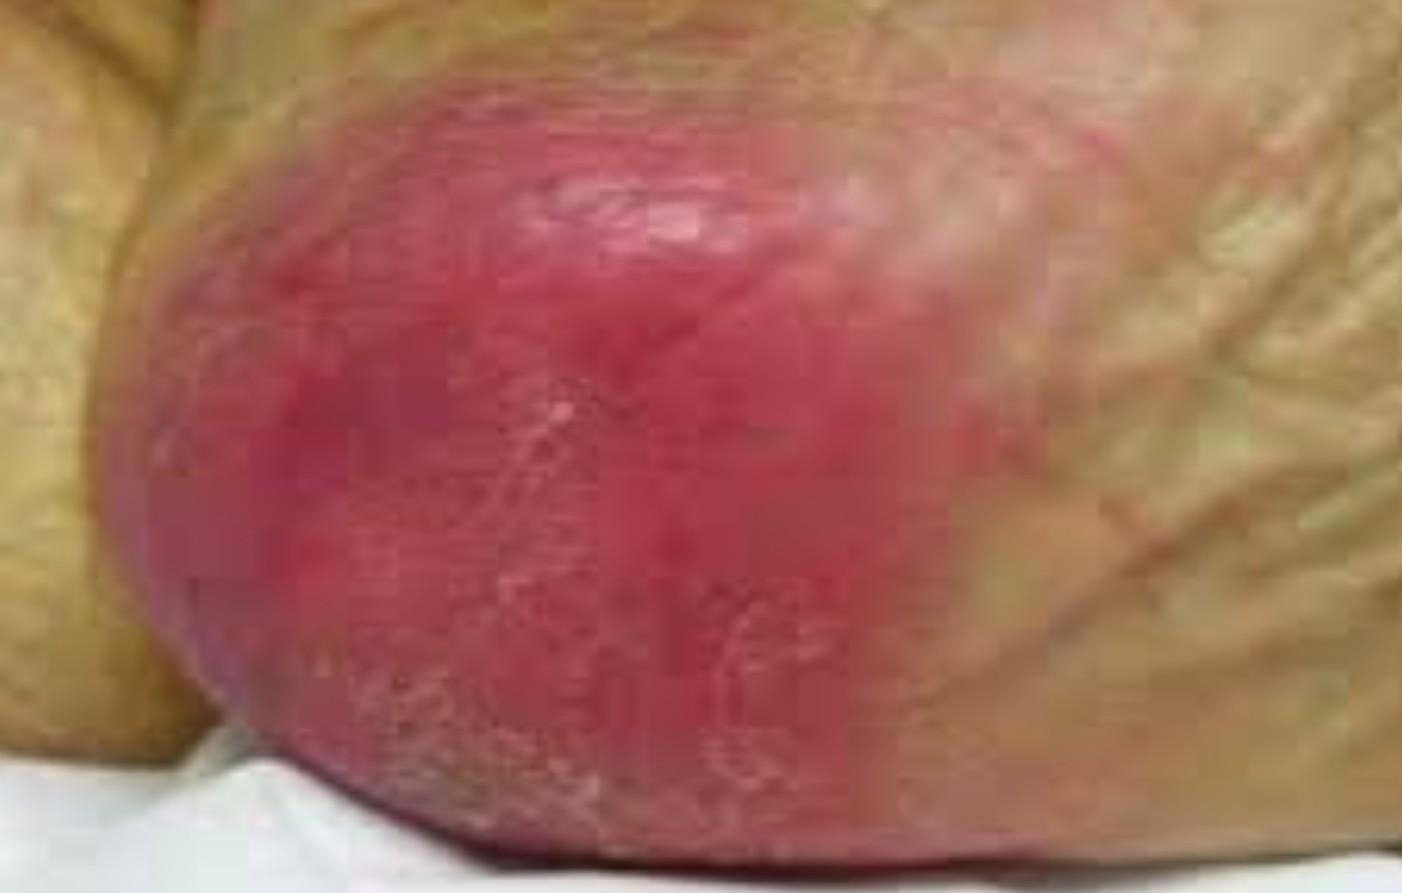Stage1: (85, 54, 1189, 859)
